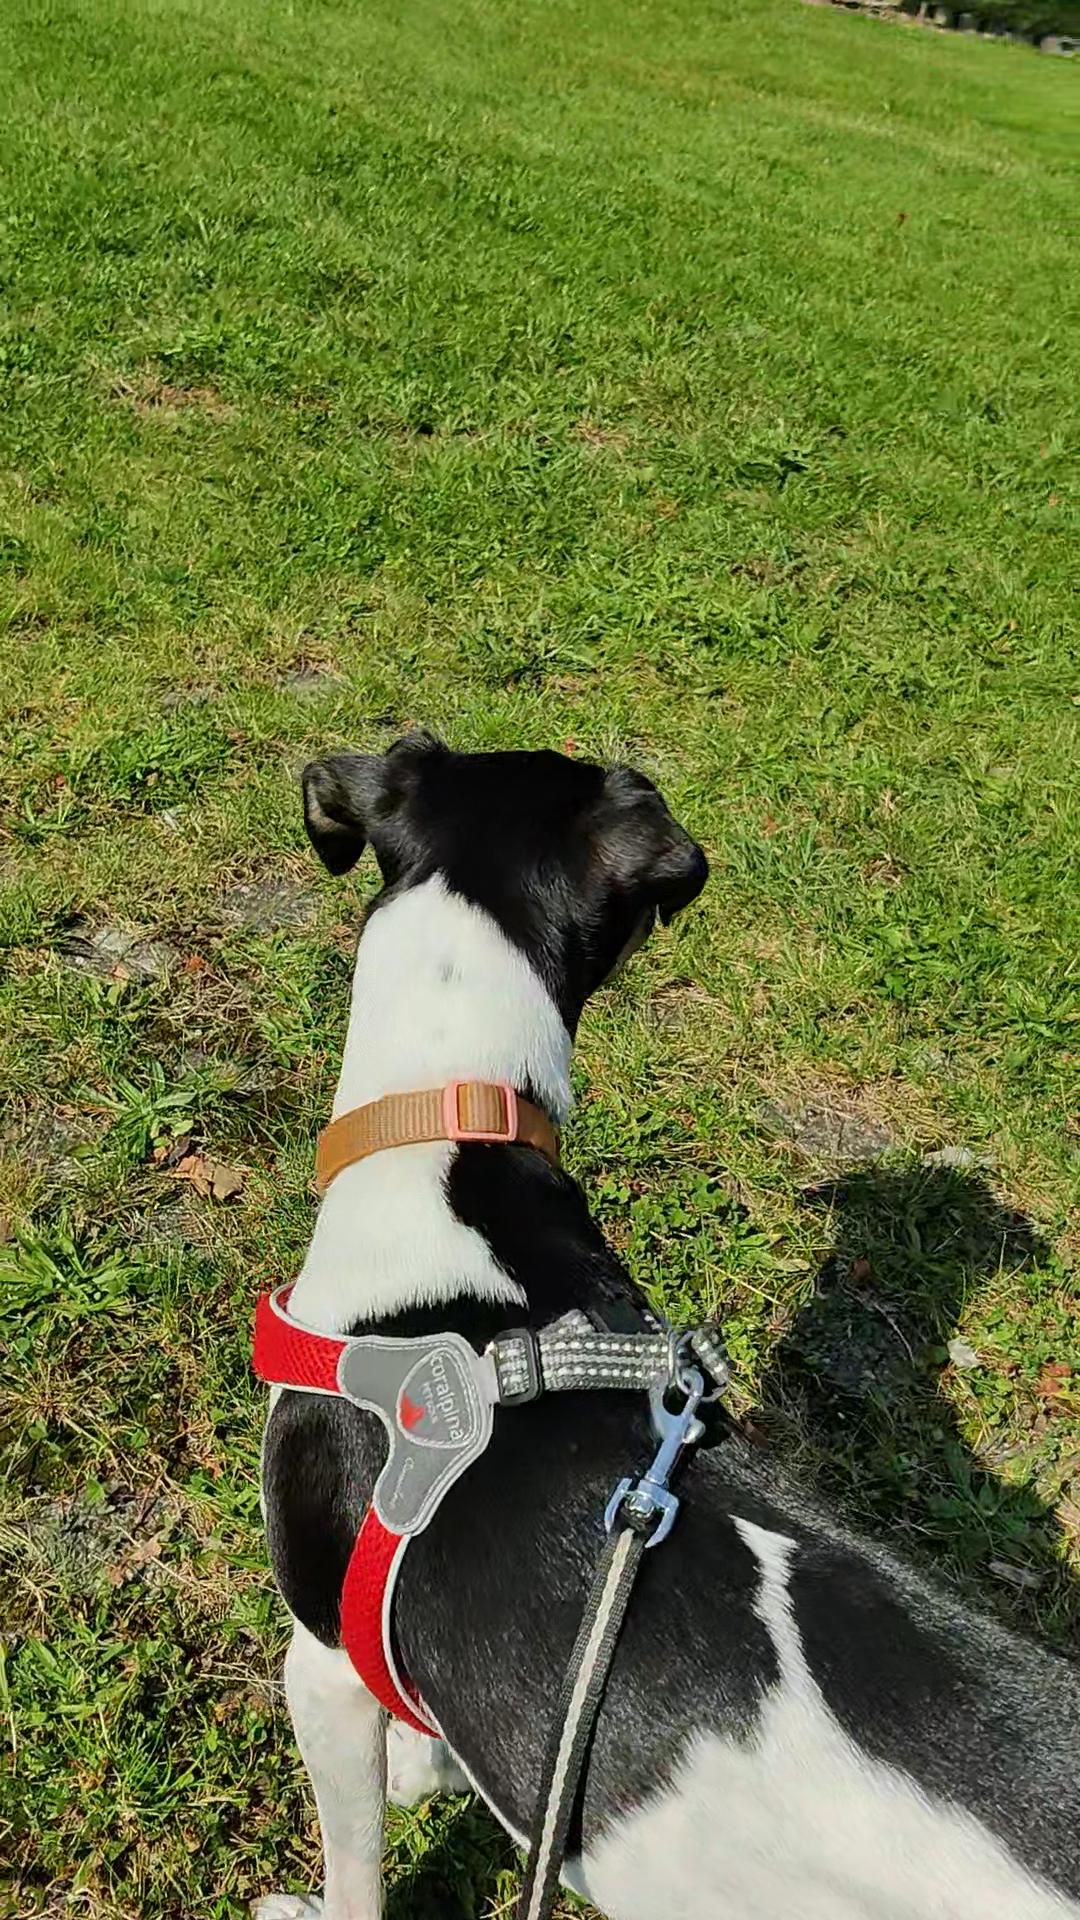Dog: (219, 715, 1079, 1919)
